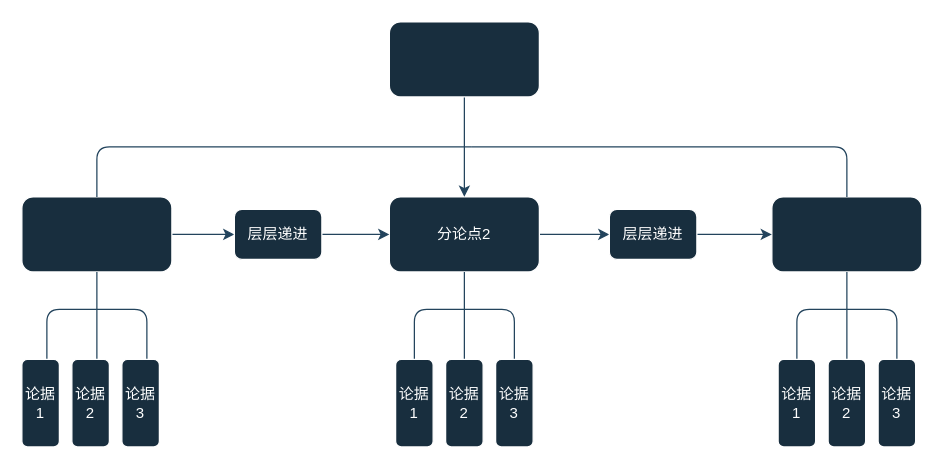
Image size: 944x469. Some labels were removed from this diagram. Here are the shapes that lost their labels. From the top down, the centre of each, then its label:
At point 463,59: "中心论点".
At point 96,234: "分论点1".
At point 846,234: "分论点3".
